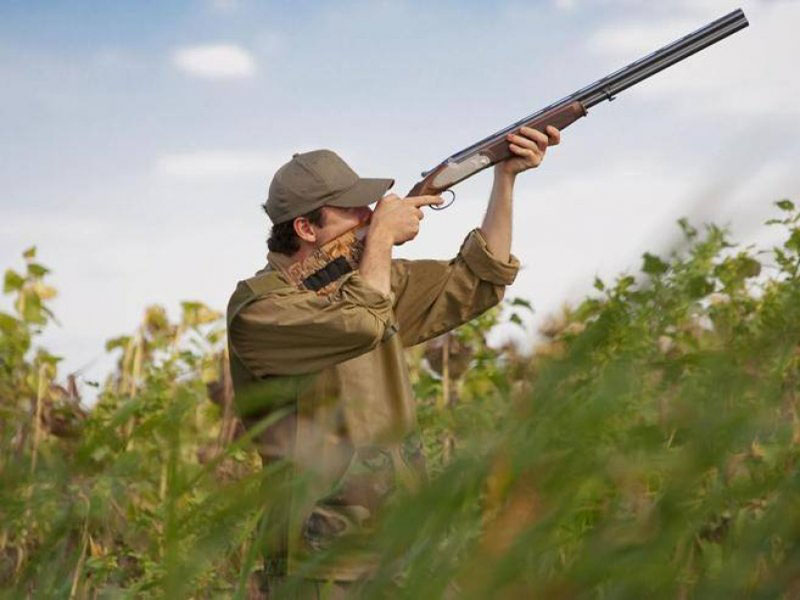cacciatore: (217, 4, 765, 535)
fucile: (284, 6, 755, 308)
